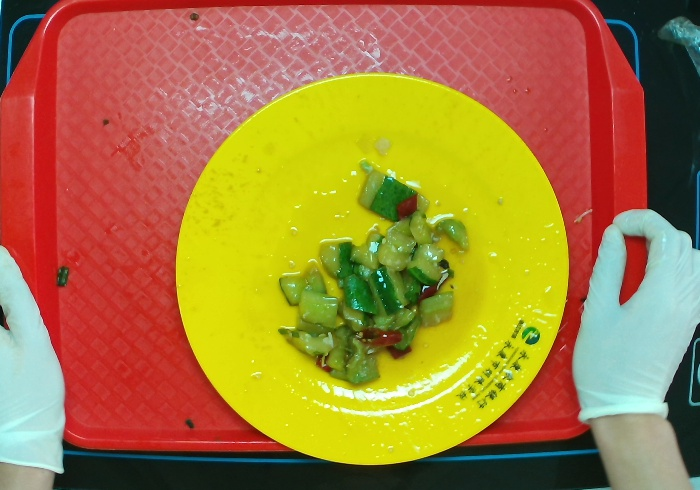YKMZ-Huang_Se_Mian_Pan: (174, 71, 571, 466)
